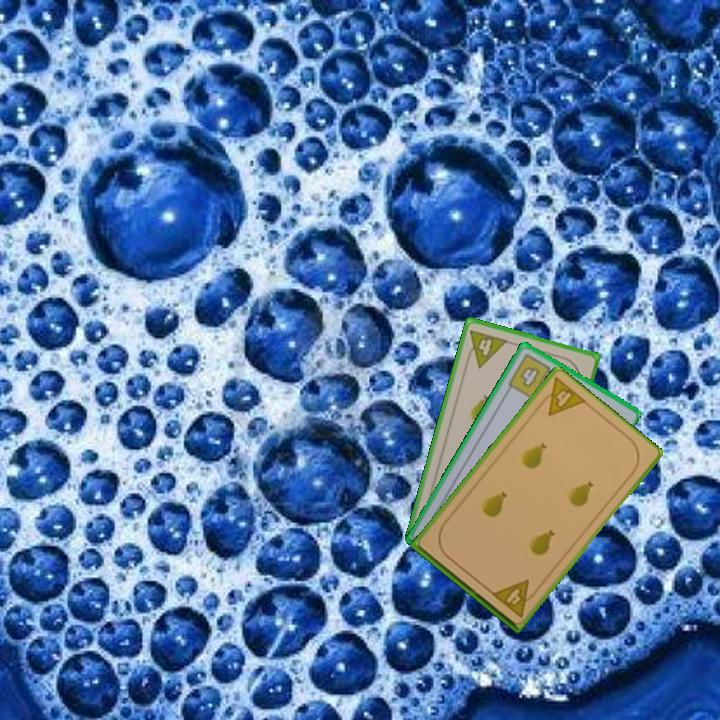4b: (504, 350, 559, 401)
4p: (533, 374, 589, 419), (488, 576, 541, 620), (462, 326, 510, 370)
